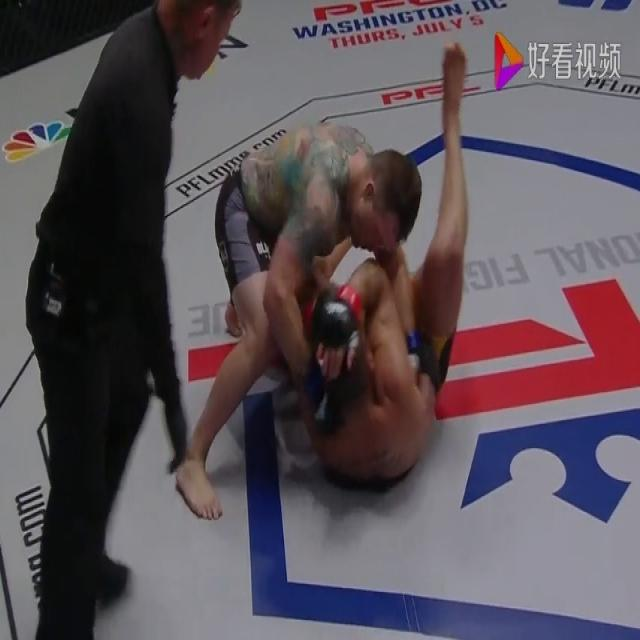fight: (174, 41, 472, 522)
non-fight: (27, 0, 246, 636)
